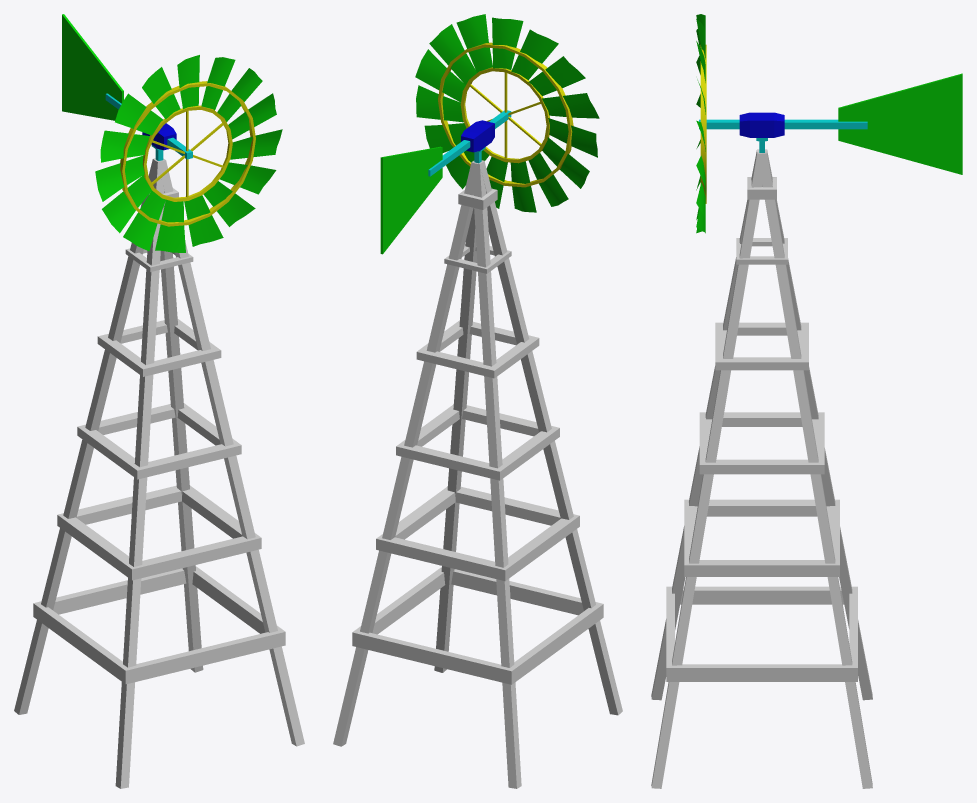
Rendered from Windmill.fbx.
3 renders of one model, left to right at view 1: azimuth 30°, elevation 25°; view 2: azimuth 150°, elevation 25°; view 3: azimuth 270°, elevation 25°, orthographic. The views are drawn at different scales.
Parts seen in each view (by area): view 1: Windmill_Base, Windmill_Spin, Windmill_Fin; view 2: Windmill_Base, Windmill_Spin, Windmill_Fin; view 3: Windmill_Base, Windmill_Fin, Windmill_Spin.
Part boxes in pixels (<box>): Windmill_Base: <box>14,158,304,788</box>; Windmill_Spin: <box>95,55,282,252</box>; Windmill_Fin: <box>62,14,192,160</box>; Windmill_Base: <box>333,160,622,788</box>; Windmill_Spin: <box>415,14,599,212</box>; Windmill_Fin: <box>380,110,511,254</box>; Windmill_Base: <box>651,149,872,788</box>; Windmill_Fin: <box>699,73,962,174</box>; Windmill_Spin: <box>696,14,706,233</box>.
Bounding box in the file's own units: 174 × 621 × 244.
